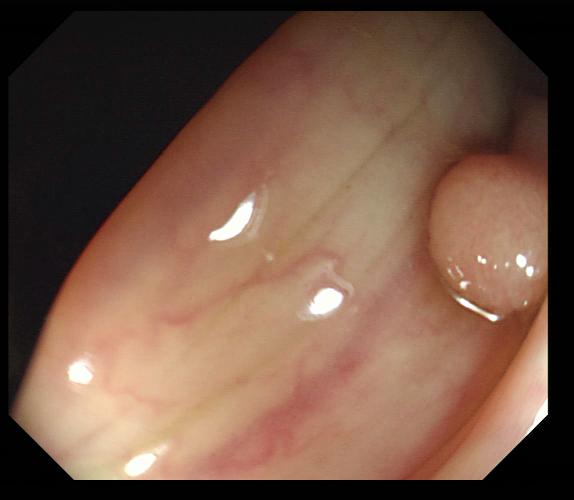polyp: (425, 98, 546, 314)
